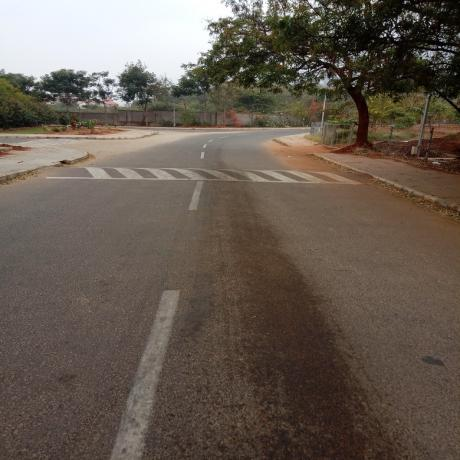Speed Bump: (32, 164, 364, 185)
